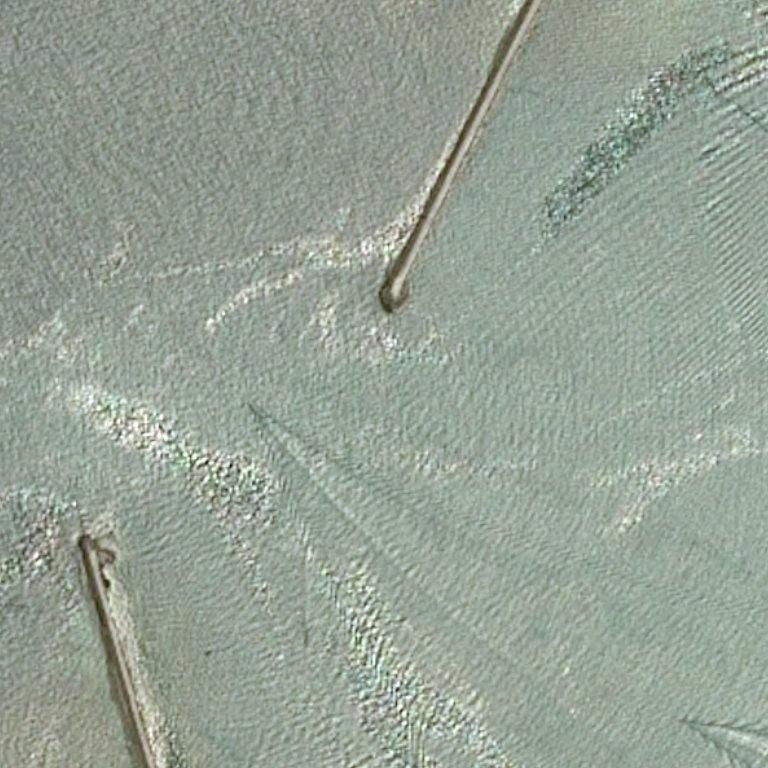ship: (242, 17, 257, 33), (676, 714, 690, 729)
